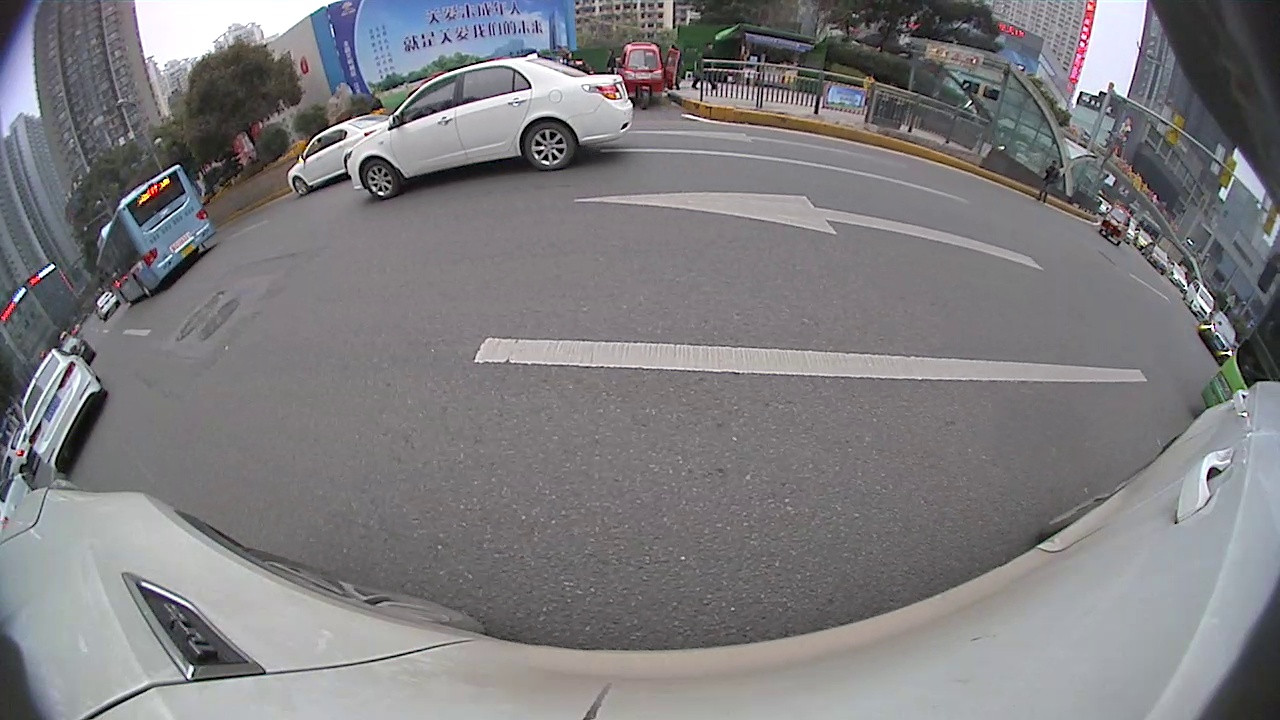bus: (96, 161, 216, 308), (1202, 241, 1279, 441)
car: (344, 52, 633, 199), (19, 344, 109, 477), (287, 111, 394, 197), (1, 416, 38, 483), (3, 473, 37, 522), (1206, 313, 1238, 363), (55, 329, 98, 364), (1186, 278, 1214, 315), (93, 290, 119, 318), (1146, 241, 1170, 271), (1168, 256, 1187, 287)
front: (360, 158, 402, 201), (290, 177, 313, 200)
person: (1048, 158, 1058, 199)
rear: (522, 121, 578, 173), (133, 274, 153, 300)
rider: (618, 39, 664, 108), (1101, 202, 1133, 245)
